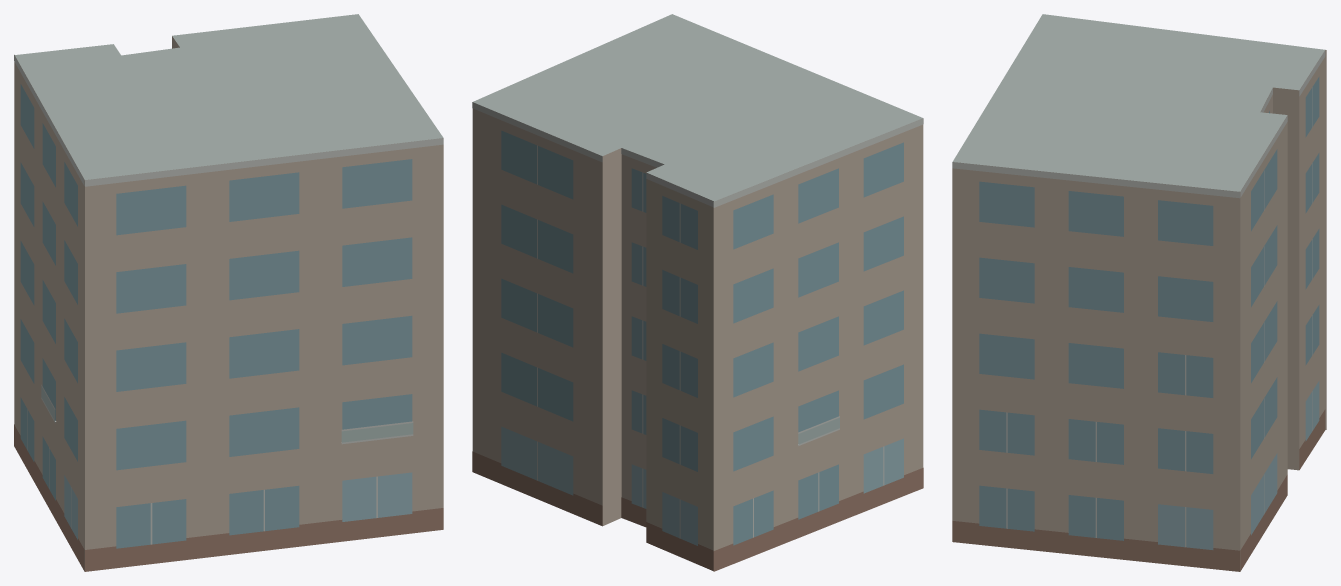
The model's file is survey-upis-33010338.glb.
The picture shows the model from 3 angles, left to right: view 1: azimuth 30°, elevation 25°; view 2: azimuth 150°, elevation 25°; view 3: azimuth 270°, elevation 25°; orthographic projection. The views are drawn at different scales.
Parts seen in each view (by area): view 1: survey-upis-33010338.tmp; view 2: survey-upis-33010338.tmp; view 3: survey-upis-33010338.tmp.
Part boxes in pixels (x1,y1,x2,y2): survey-upis-33010338.tmp: (14, 14, 443, 571); survey-upis-33010338.tmp: (472, 14, 923, 571); survey-upis-33010338.tmp: (952, 14, 1326, 571).
Bounding box in the file's own units: 14.46 × 14.4 × 12.85.
